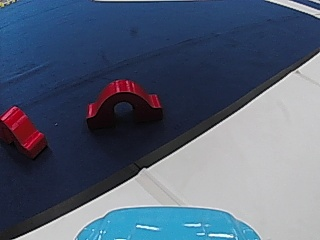bridge: (83, 76, 165, 126), (0, 104, 49, 159)
